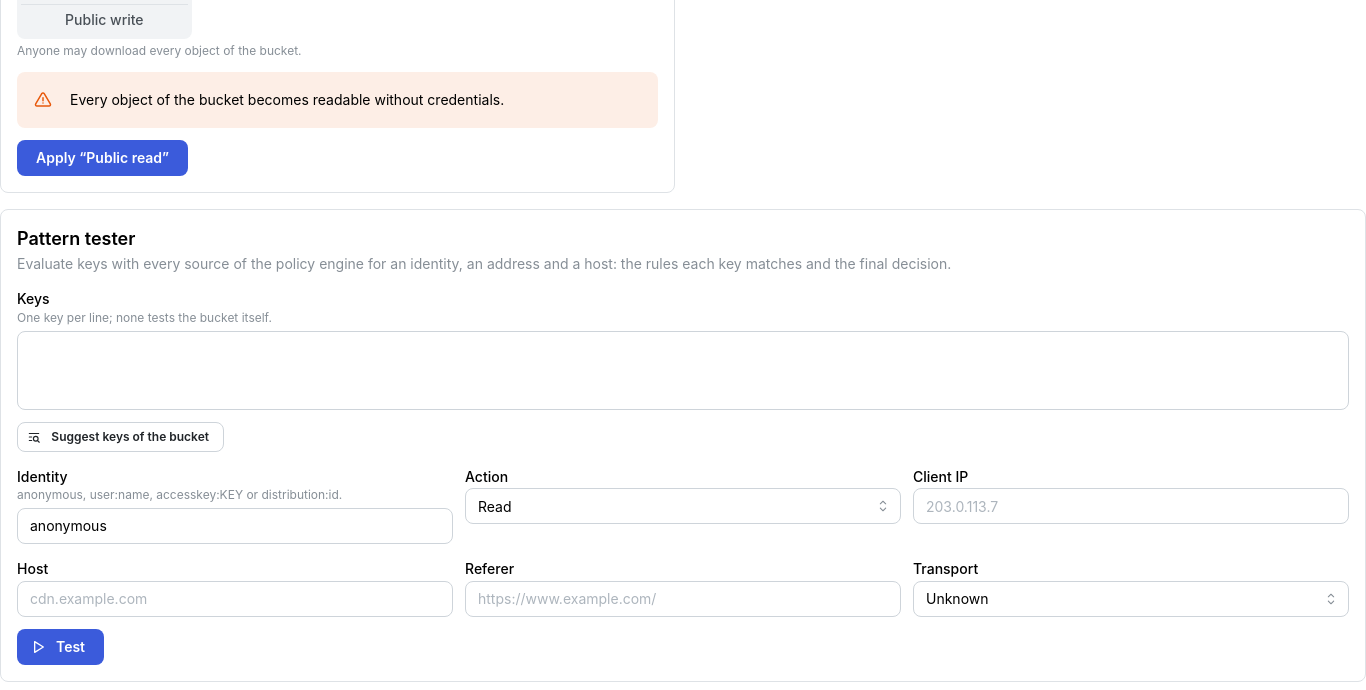
BucketRulesTab › D-ACC-02 tests keys and highlights the rules that decide
(page scrolled)
Click the button "Suggest keys of the bucket". click: click(120, 436)
box: left=17, top=422, right=224, bottom=452
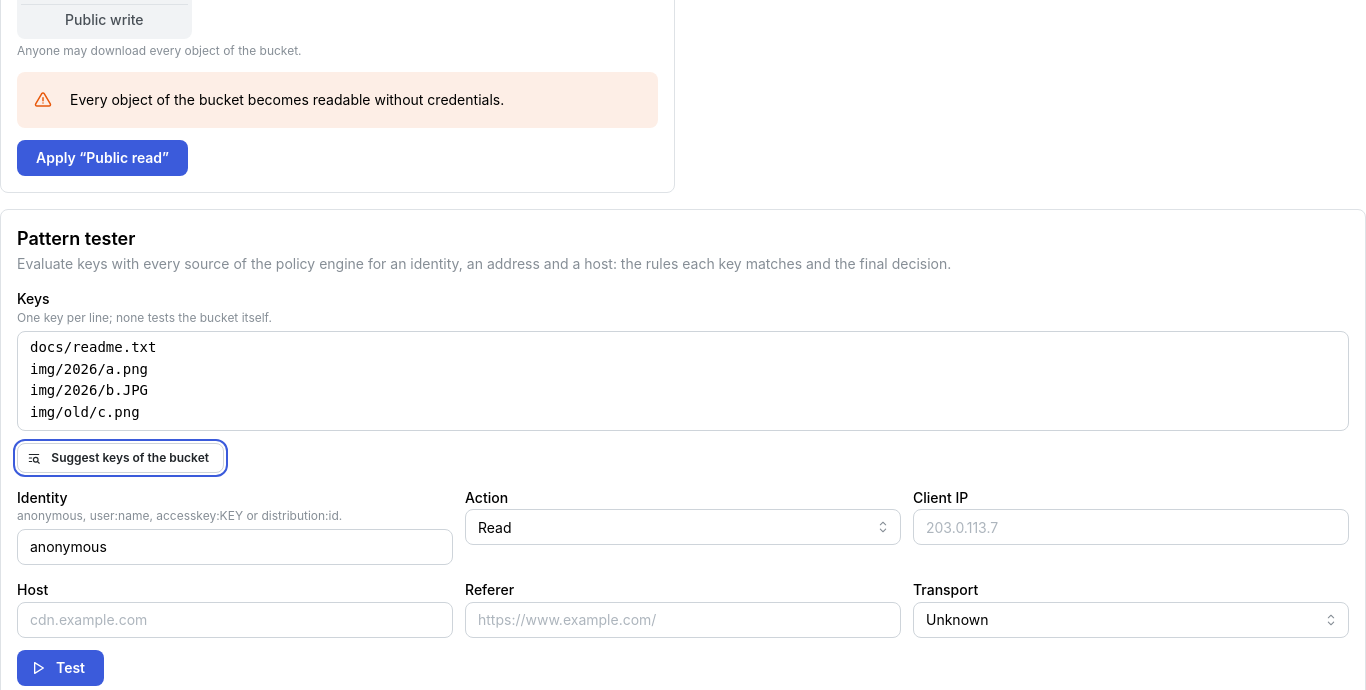
Click the button "Test". click: click(61, 668)
box: left=17, top=650, right=104, bottom=686
(page scrolled)
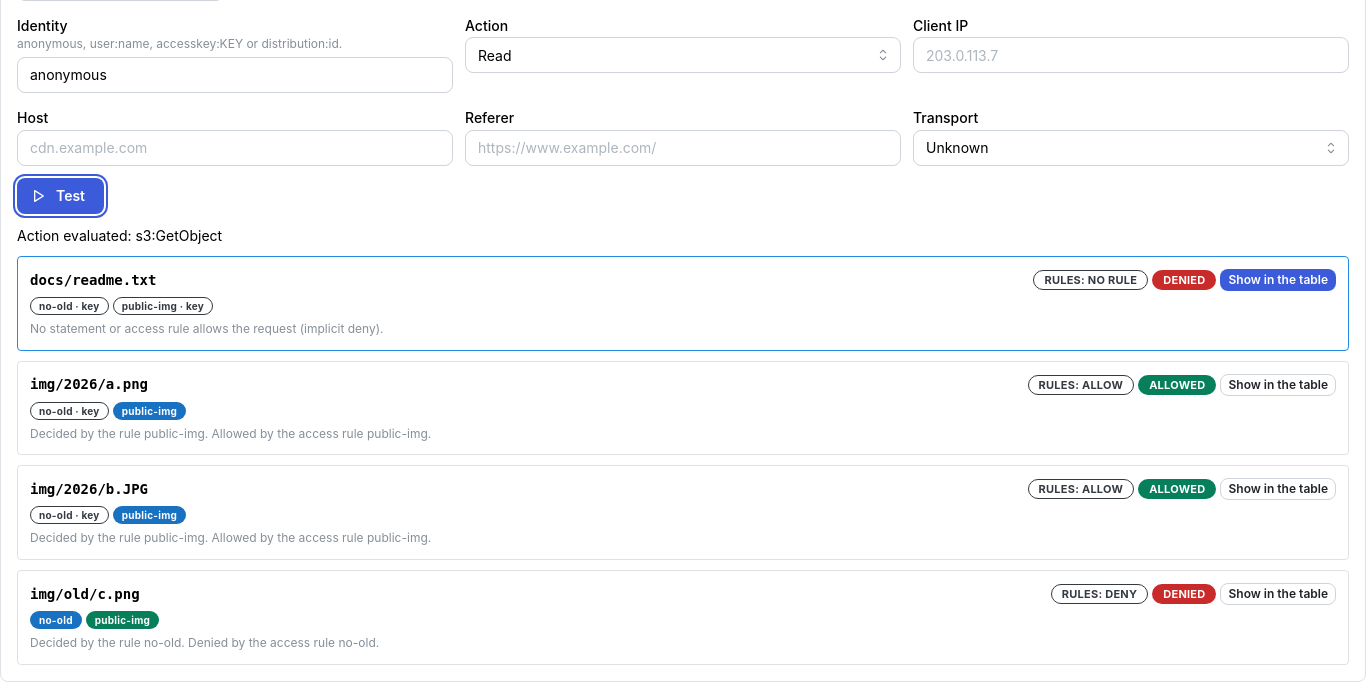
Check: the element that starts with "img/old/c.png" is shown, box left=17, top=570, right=1349, bottom=665
Check: the text "Denied" next to "Rules: deny" is shown, box left=1163, top=587, right=1206, bottom=601
Check: the text "Decided by the rule no-old." is shown, box left=30, top=635, right=185, bottom=650
Click the button with aria-label "Highlight in the table the rules of img/old/c.png". click: click(1278, 594)
box: left=1220, top=583, right=1336, bottom=605
(page scrolled)
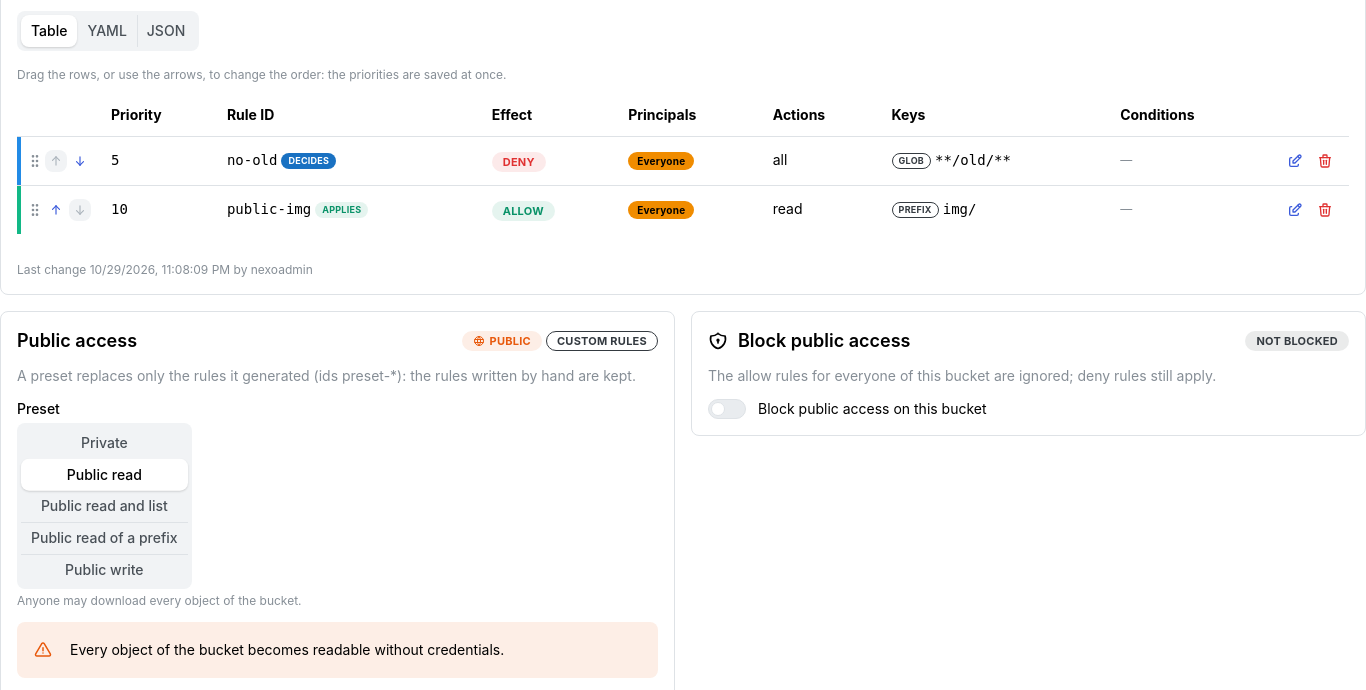
Check: the text "Decides" is shown, box left=288, top=154, right=329, bottom=168
